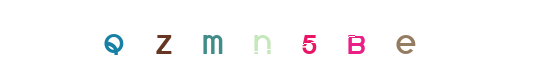5: (293, 0, 373, 80)
B: (296, 0, 376, 80)
E: (345, 0, 425, 80)
M: (202, 0, 282, 80)
N: (232, 0, 312, 80)
Q: (122, 0, 202, 80)
Z: (124, 0, 204, 80)
